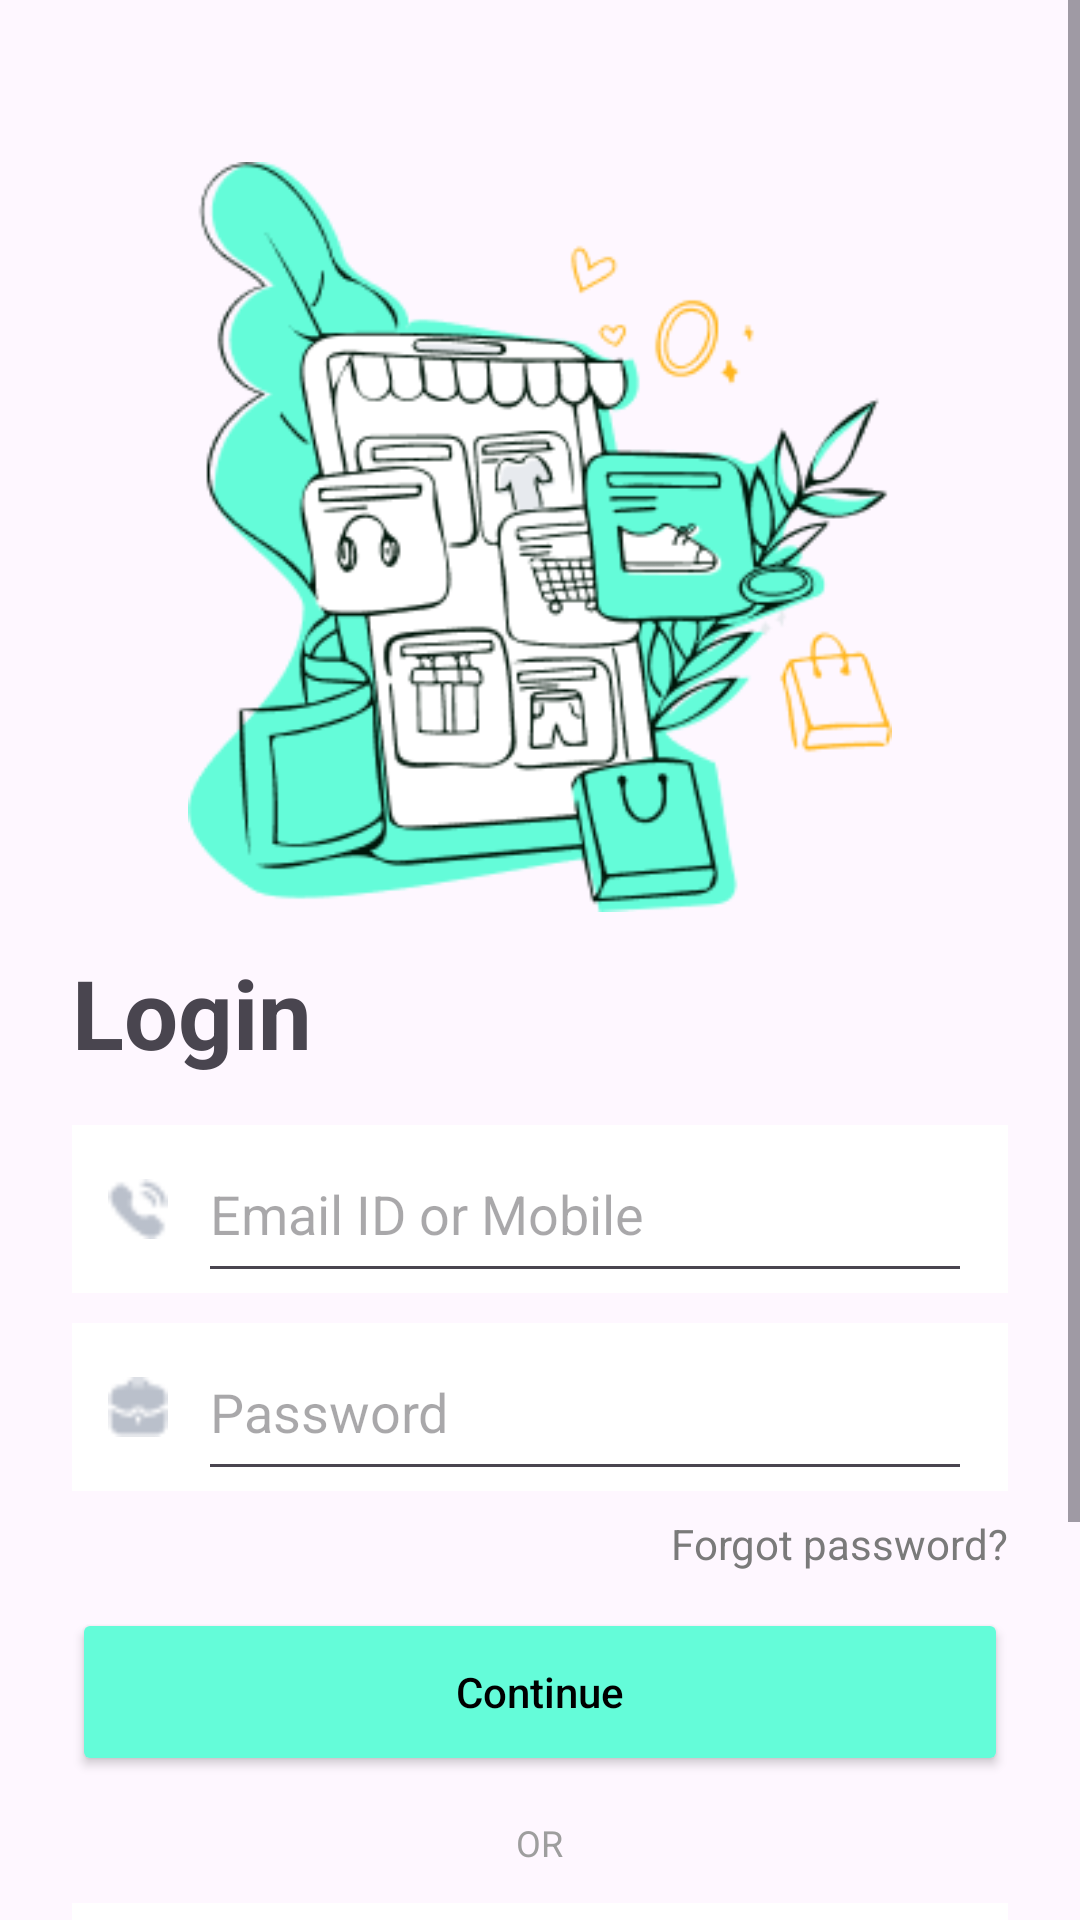

Where icons sit on this 1080×1920 app screen, as (x1, y1, x2, y2):
calling: (108, 1181, 168, 1239)
work: (108, 1377, 168, 1437)
